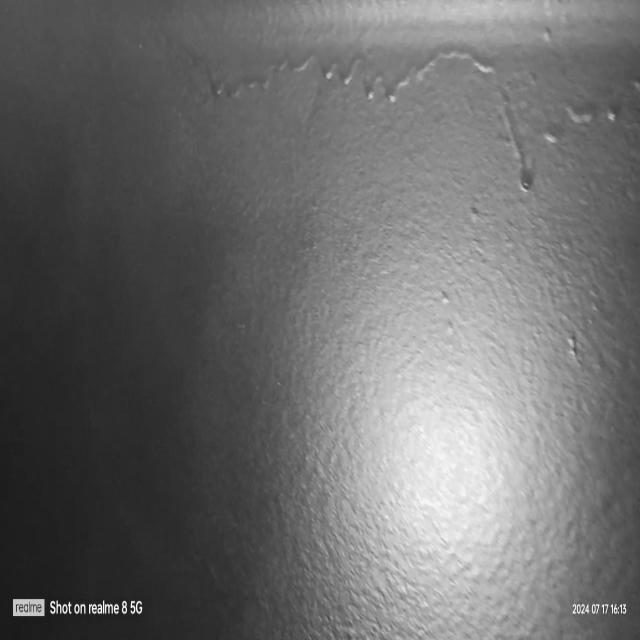paint drips: (176, 38, 640, 202)
